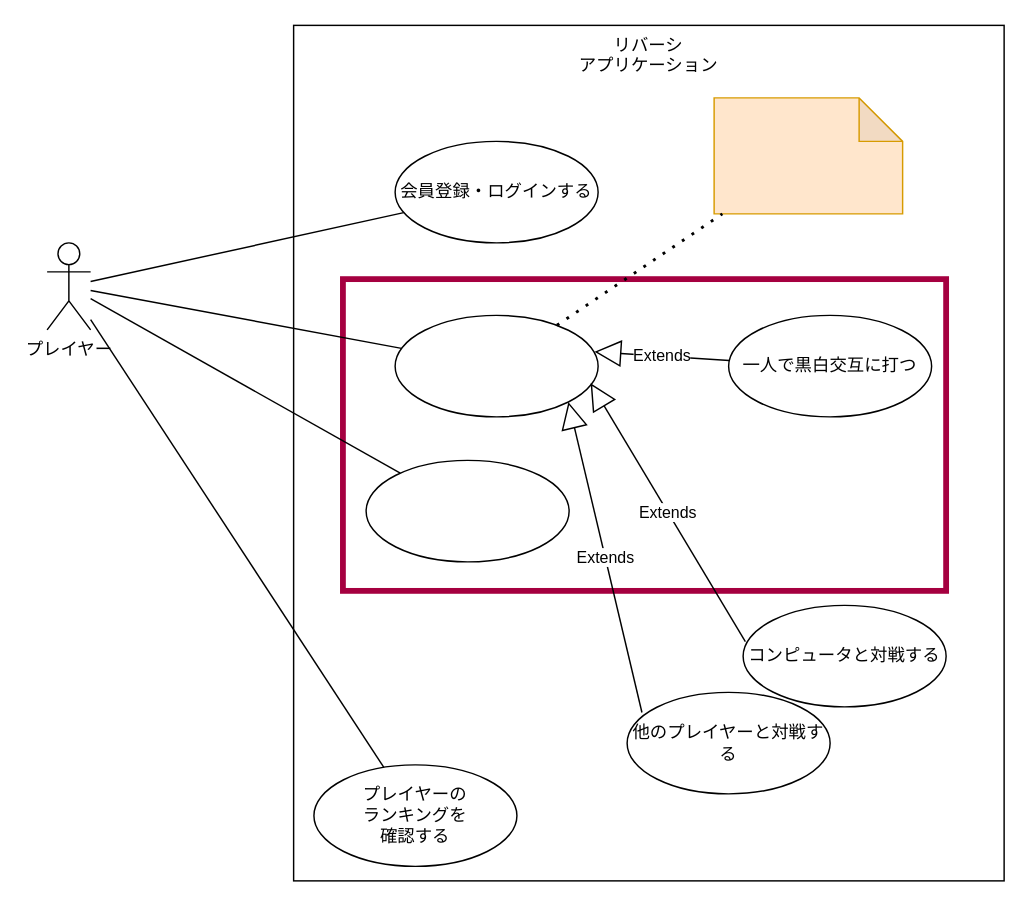
Some shapes in this 1030 by 906 pixel diagram are drawn without their labels. Each missing label, with the centre of its shape:
"・対戦を開始する ・盤面を見る ・石を打つ ・勝敗を確認する" belongs at pixel 808 155.
"対戦する" belongs at pixel 496 365.
"自分の過去の対戦結果を確認する" belongs at pixel 467 510.
